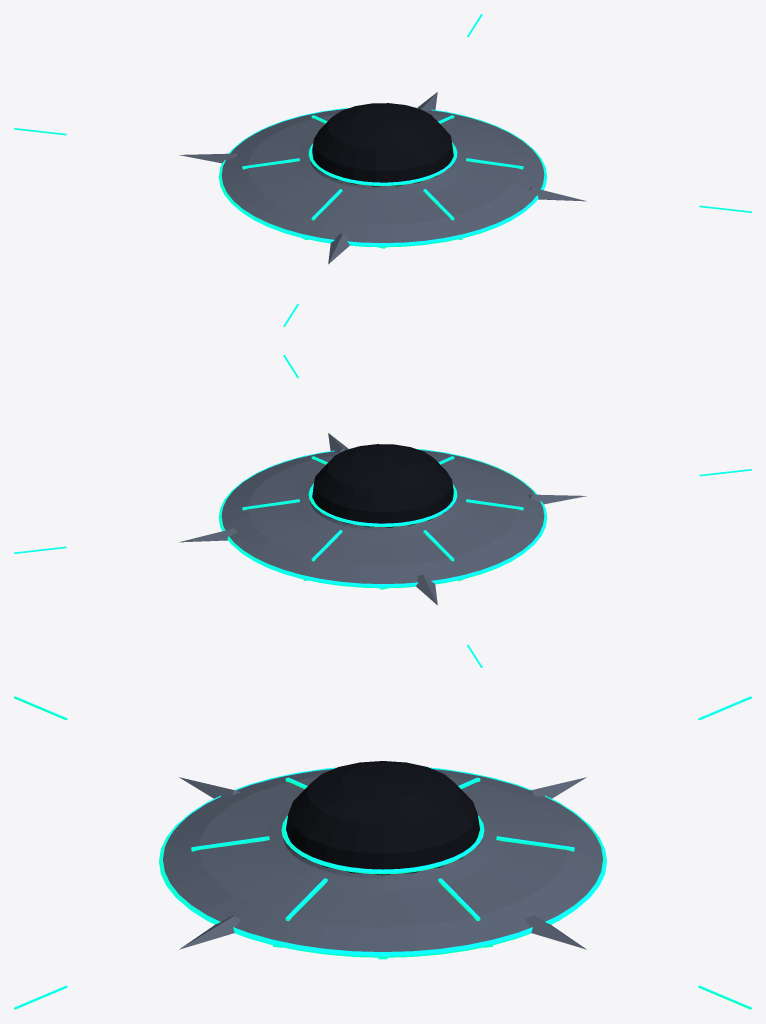
The model's file is ufo.glb.
3 renders of one model, top to bottom at view 1: azimuth 30°, elevation 25°; view 2: azimuth 150°, elevation 25°; view 3: azimuth 270°, elevation 25°, orthographic. The views are drawn at different scales.
Visible parts, largest first — view 1: Hull, Dome, NeonRim, DomeNeon; view 2: Hull, Dome, NeonRim, DomeNeon; view 3: Hull, Dome, NeonRim, DomeNeon, Blade0, Blade3.
Boxes of the visible parts, x1,y1,x2,y2 form: Hull: [221, 109, 544, 242]; Dome: [312, 103, 453, 186]; NeonRim: [218, 108, 547, 247]; DomeNeon: [308, 142, 457, 185]; Hull: [221, 450, 544, 583]; Dome: [312, 444, 453, 527]; NeonRim: [218, 449, 547, 588]; DomeNeon: [308, 483, 457, 526]; Hull: [163, 769, 602, 951]; Dome: [286, 761, 479, 875]; NeonRim: [159, 767, 606, 957]; DomeNeon: [281, 815, 484, 874]; Blade0: [525, 915, 586, 949]; Blade3: [179, 915, 240, 949].
Size of the model in its own units: 7.01 by 1.29 by 7.01.
